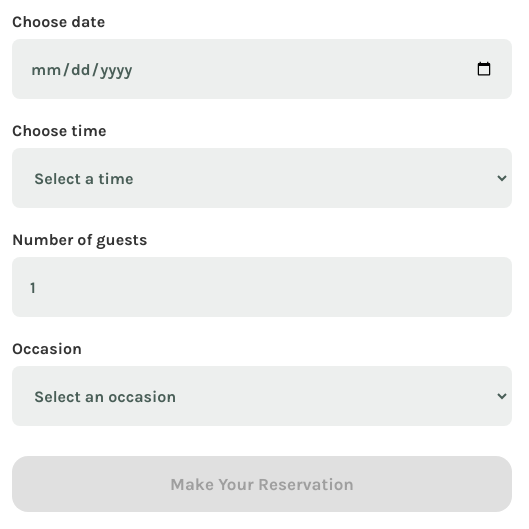
BookingForm › form validation behavior › submit button becomes enabled when all fields are valid
Type "2030-09-20" into the date field labelled "Choose date".
click(262, 69); type("2030-09-20")  # box [12,39,512,99]
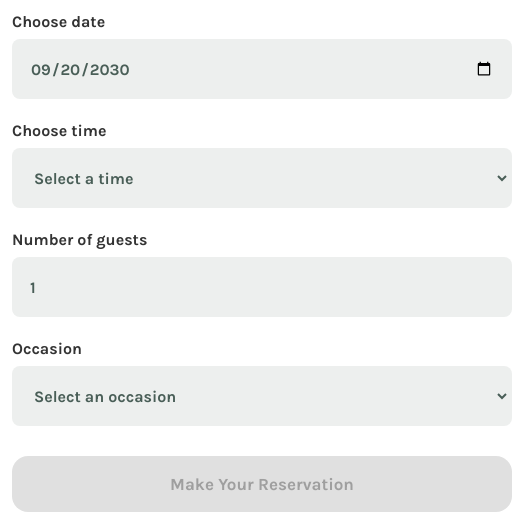
Select "18:00" in the dropdown labelled "Choose time" at (262, 178), box [12,148,512,208]
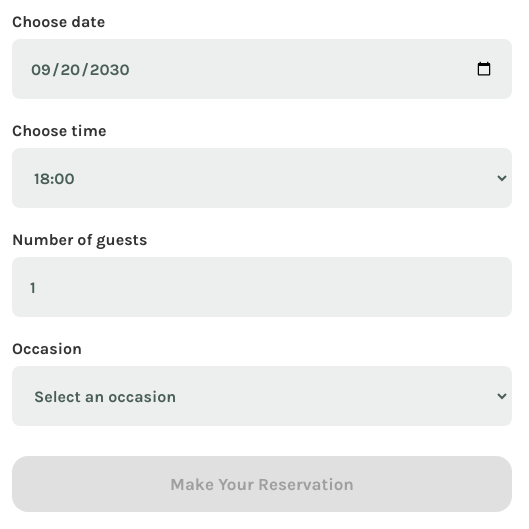
Replace the text in the number field labelled "Number of guests" with "4" at (262, 287), box [12,257,512,317]
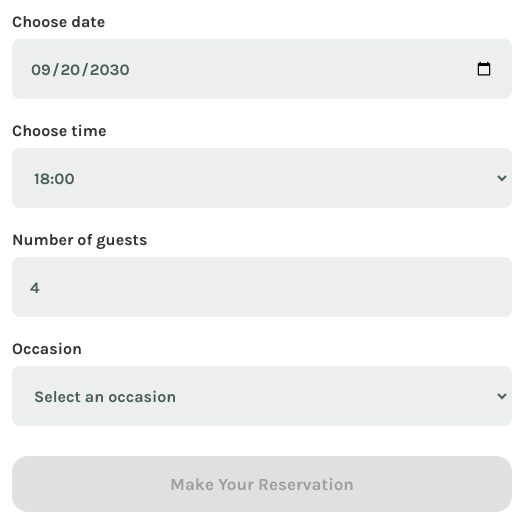
Select "Birthday" in the dropdown labelled "Occasion" at (262, 396), box [12,366,512,426]
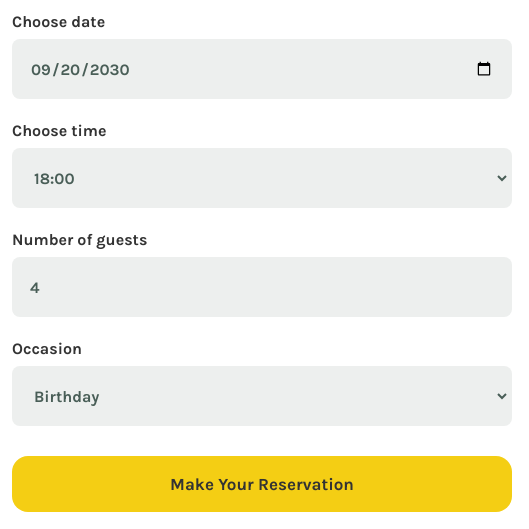
Expected: the button "Make Your Reservation" is enabled, [12,456,512,512]
